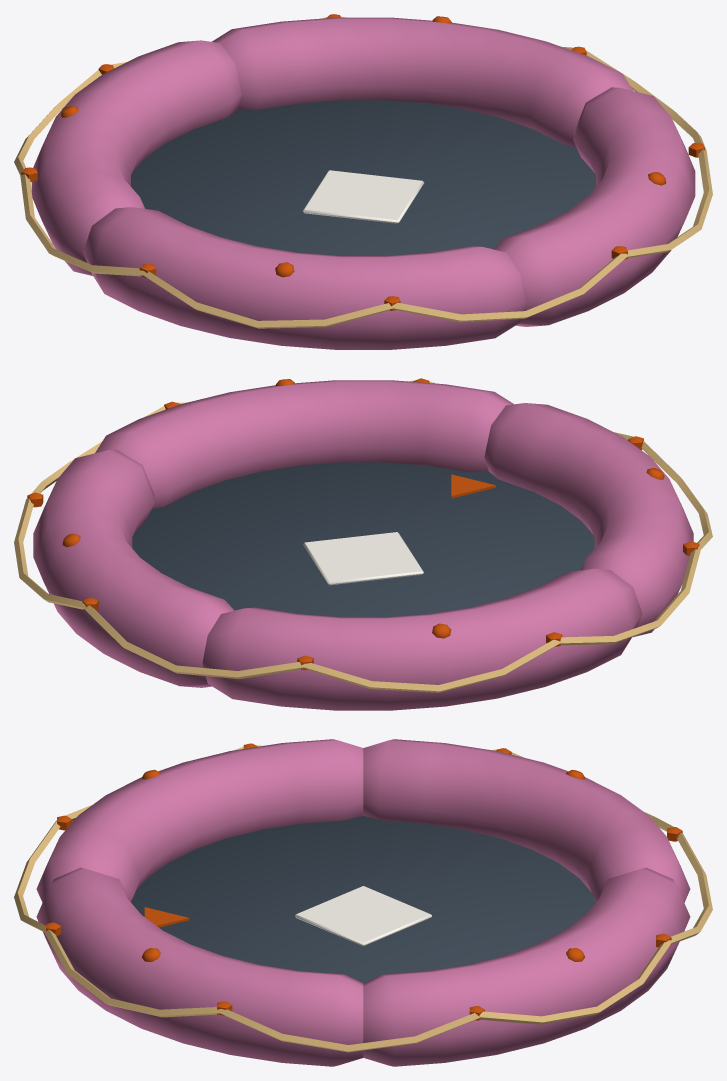
The model's file is MiniRaft_J4.fbx.
3 views of the same model, one above another, from view 1: azimuth 30°, elevation 25°; view 2: azimuth 150°, elevation 25°; view 3: azimuth 270°, elevation 25° (orthographic).
Visible parts, largest first — view 1: Raft_Floor, Chamber_0_NE, Chamber_3_SO, Chamber_1_NO, Chamber_2_SE, Raft_Rope; view 2: Raft_Floor, Chamber_2_SE, Chamber_1_NO, Chamber_3_SO, Chamber_0_NE, Raft_Rope; view 3: Raft_Floor, Chamber_3_SO, Chamber_1_NO, Chamber_0_NE, Chamber_2_SE, Raft_Rope.
Boxes of the visible parts, left/top/right/bottom form: Raft_Floor: left=131, top=100, right=595, bottom=255; Chamber_0_NE: left=83, top=207, right=525, bottom=349; Chamber_3_SO: left=212, top=16, right=633, bottom=147; Chamber_1_NO: left=493, top=87, right=695, bottom=326; Chamber_2_SE: left=31, top=40, right=241, bottom=275; Raft_Rope: left=14, top=14, right=712, bottom=328; Raft_Floor: left=132, top=462, right=594, bottom=617; Chamber_2_SE: left=202, top=568, right=642, bottom=710; Chamber_1_NO: left=95, top=379, right=513, bottom=508; Chamber_3_SO: left=33, top=449, right=233, bottom=687; Chamber_0_NE: left=484, top=403, right=693, bottom=637; Raft_Rope: left=14, top=378, right=712, bottom=692; Raft_Floor: left=131, top=815, right=595, bottom=983; Chamber_3_SO: left=363, top=867, right=690, bottom=1066; Chamber_1_NO: left=36, top=867, right=363, bottom=1066; Chamber_0_NE: left=36, top=739, right=363, bottom=902; Chamber_2_SE: left=363, top=739, right=690, bottom=902; Raft_Rope: left=14, top=743, right=712, bottom=1052.
Bounding box in the file's own units: 2.13 × 0.3 × 2.13.
